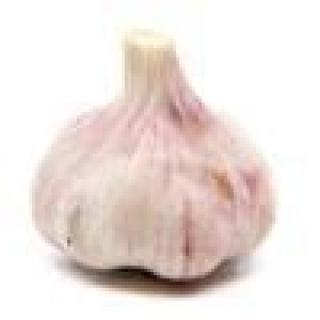Bawang Putih: (36, 33, 289, 283)
